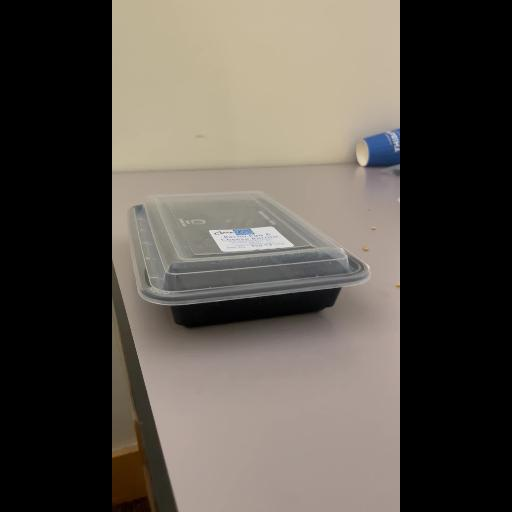rigid_plastic_container: (125, 191, 371, 331)
